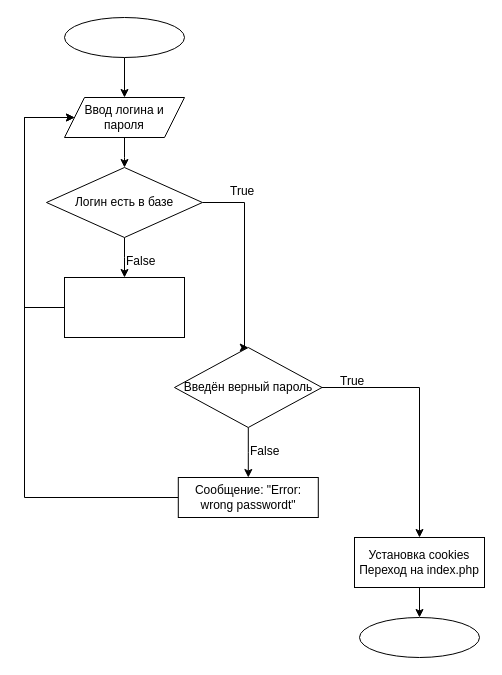
Some shapes in this 502 by 675 pixel diagram are drawn without their labels. Here are the shapes that lost their labels. From the top down, the centre of each, then its label:
point 124,37: Начало
point 124,307: Сообщение: "Error: User with this login does not exist "
point 419,637: Конец
